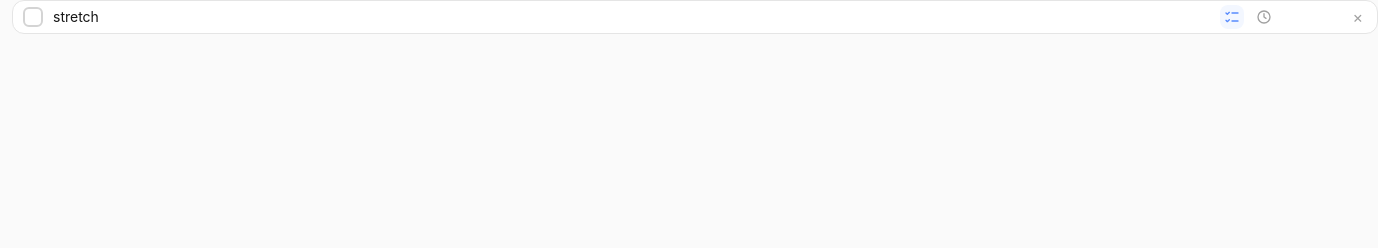
a row that will not tick its task off (CHK-11) › says so and shakes, and leaves the task alone
Click the button named "Mark \"stretch\" as done": x=33, y=17 [23, 7, 43, 27]
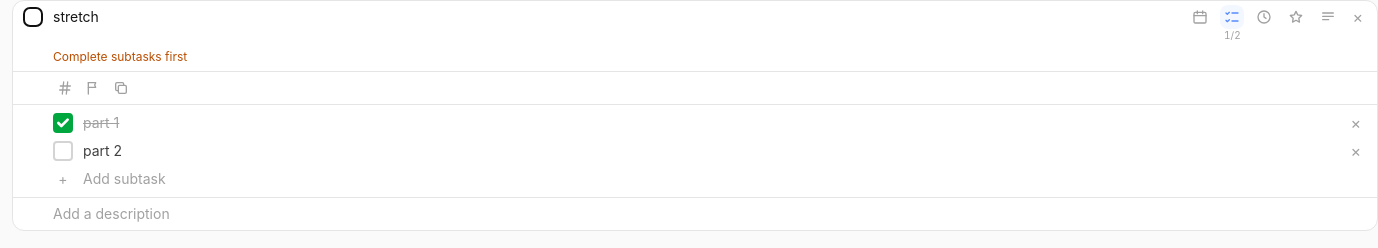
Now the message reads "Complete subtasks first", box [53, 49, 187, 64]
